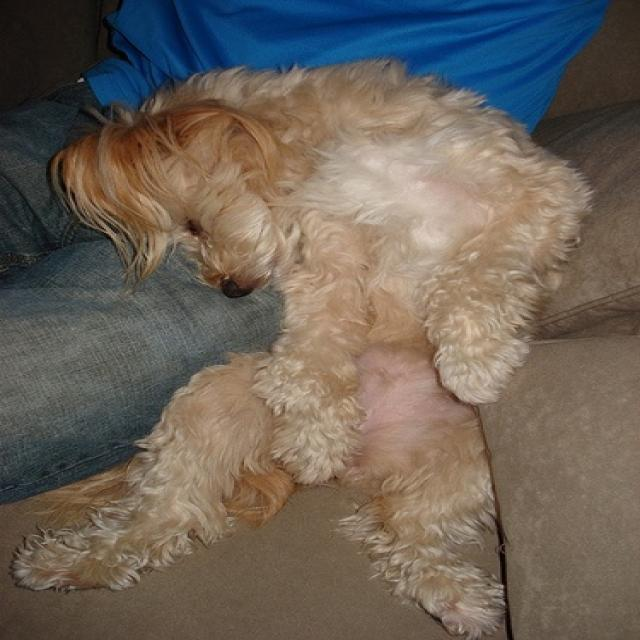dog: (41, 78, 584, 630)
